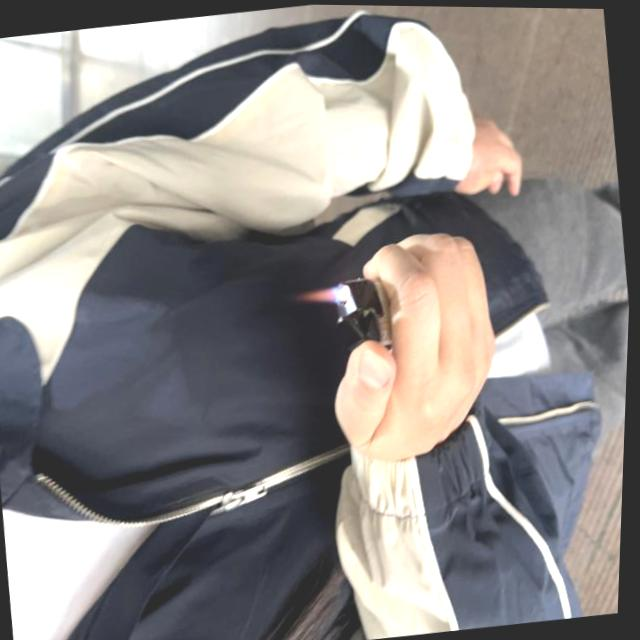Fire: (300, 283, 355, 303)
